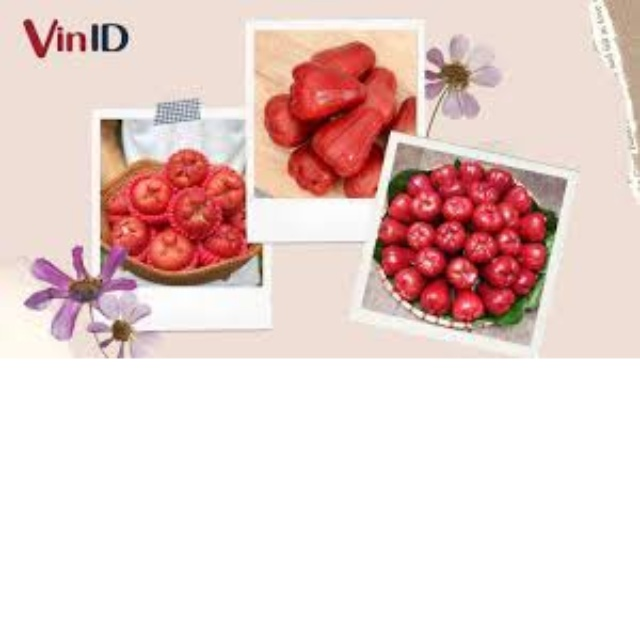xoai: (316, 84, 391, 168), (289, 52, 369, 120)
